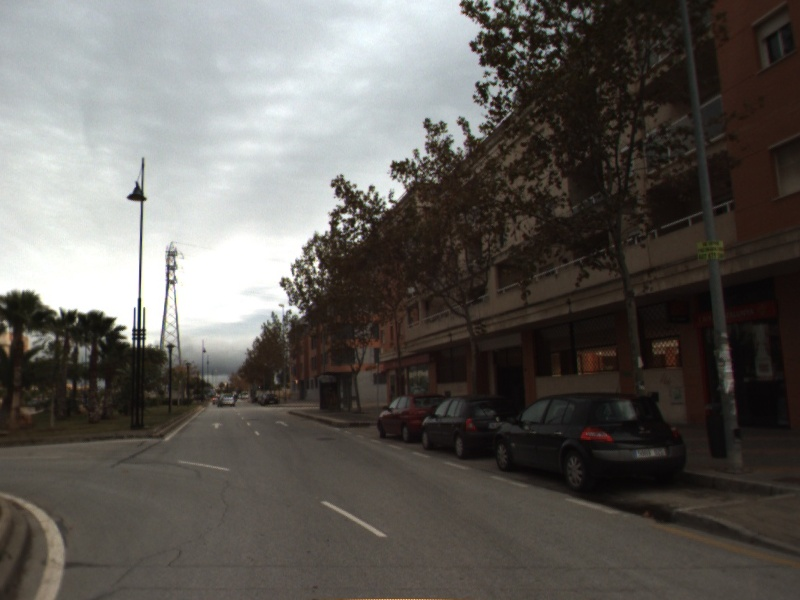STRAIGHT: (273, 418, 290, 428), (210, 420, 225, 431)
